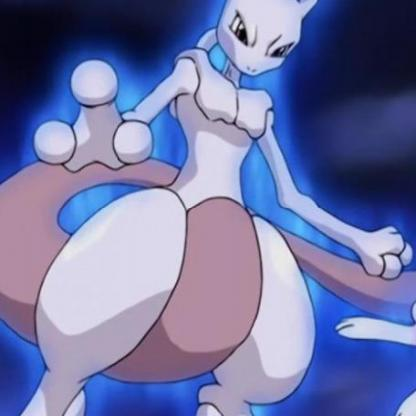Mewtwo: (1, 13, 378, 412)
